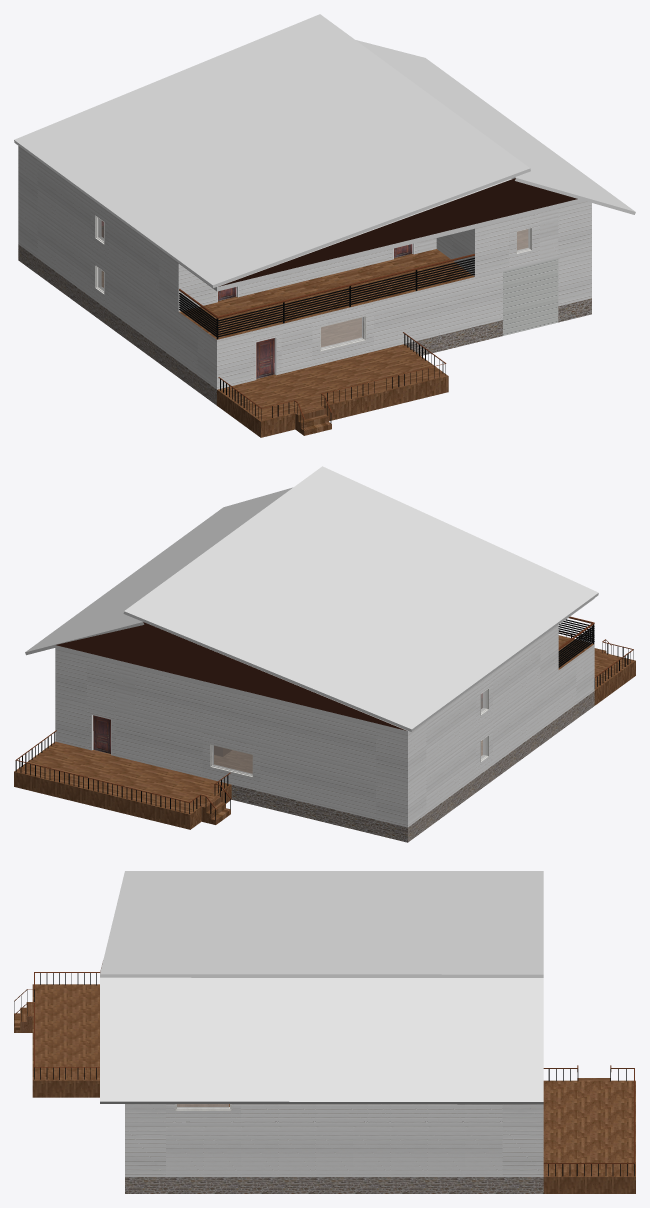
Rendered from house_new.glb.
3 renders of one model, top to bottom at view 1: azimuth 30°, elevation 25°; view 2: azimuth 150°, elevation 25°; view 3: azimuth 270°, elevation 25°, orthographic. The views are drawn at different scales.
Parts seen in each view (by area): view 1: Plane.004, Plane.001, Plane.002, Cube.097, Cube.170, Cube.010, Cube.016, Cube.139, Cube.099, Cube.047, Cube.126, Cube.006 (+28 smaller); view 2: Plane.004, Plane.001, Cube.092, Cube.026, Cube.107, Cube.113, Plane.002, Cube.116, Cube.037, Cube.194, Cube.029, Cube.112 (+35 smaller); view 3: Plane.004, Plane.001, Cube.037, Cube.047, Cube.038, Cube.039, Cube.040, Cube.041, Cube.042, Cube.043, Cube.044, Cube.045 (+14 smaller).
Boxes of the visible parts, x1,y1,x2,y2 form: Plane.004: [14, 14, 635, 291]; Plane.001: [18, 244, 591, 437]; Plane.002: [18, 194, 591, 341]; Cube.097: [179, 258, 474, 339]; Cube.170: [503, 258, 558, 335]; Cube.010: [312, 303, 373, 366]; Cube.016: [197, 327, 250, 389]; Cube.139: [452, 220, 508, 276]; Cube.099: [159, 249, 212, 311]; Cube.047: [558, 250, 591, 306]; Cube.126: [558, 201, 591, 256]; Cube.006: [281, 318, 312, 373]; Plane.004: [25, 466, 598, 735]; Plane.001: [14, 648, 635, 842]; Cube.092: [202, 732, 260, 791]; Cube.026: [376, 769, 426, 827]; Cube.107: [376, 722, 426, 780]; Cube.113: [135, 669, 173, 723]; Plane.002: [55, 635, 594, 781]; Cube.116: [55, 649, 86, 702]; Cube.037: [55, 696, 86, 749]; Cube.194: [15, 730, 230, 820]; Cube.029: [289, 753, 318, 805]; Cube.112: [173, 678, 202, 730]; Plane.004: [100, 871, 543, 1104]; Plane.001: [14, 984, 635, 1193]; Cube.037: [502, 1126, 543, 1176]; Cube.047: [125, 1126, 165, 1176]; Cube.038: [465, 1126, 502, 1176]; Cube.039: [427, 1126, 464, 1176]; Cube.040: [390, 1126, 427, 1176]; Cube.041: [353, 1126, 390, 1176]; Cube.042: [315, 1126, 352, 1176]; Cube.043: [278, 1126, 315, 1176]; Cube.044: [241, 1126, 278, 1176]; Cube.045: [203, 1126, 240, 1176].
Bounding box in the file's own units: 26.77 × 10.73 × 33.28.
18 materials, 10 textured.
